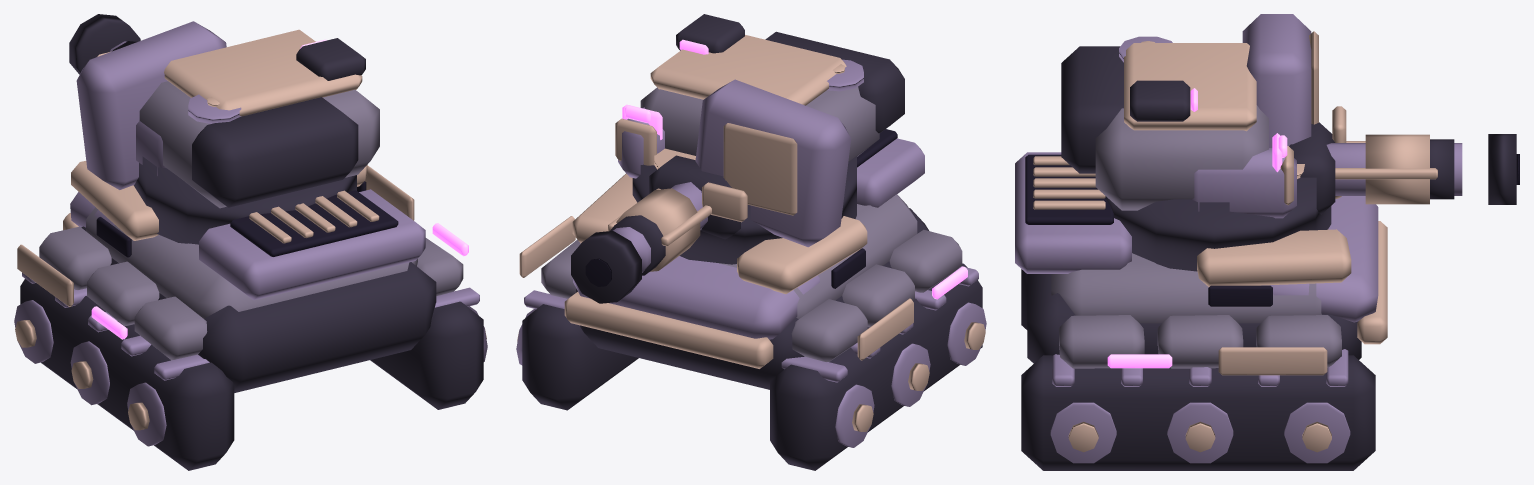
File: vesper-striker-tank.glb
3 renders of one model, left to right at view 1: azimuth 30°, elevation 25°; view 2: azimuth 150°, elevation 25°; view 3: azimuth 270°, elevation 25°, orthographic. The views are drawn at different scales.
Parts seen in each view (by area): view 1: Rotating turret assembly, Vesper track belt, Vesper segmented track armor, Vesper road wheel, Vesper hub cap, Vesper shoulder shadow port, Vesper track violet dash; view 2: Rotating turret assembly, Vesper track belt, Vesper road wheel, Vesper hub cap, Vesper segmented track armor, Vesper shoulder shadow port, Vesper track violet dash; view 3: Rotating turret assembly, Vesper track belt, Vesper road wheel, Vesper segmented track armor, Vesper hub cap, Vesper shoulder shadow port, Vesper track violet dash.
Boxes of the visible parts, bbox=[...] form: Rotating turret assembly: bbox=[69, 14, 379, 244]; Vesper track belt: bbox=[20, 226, 483, 470]; Vesper segmented track armor: bbox=[39, 207, 463, 360]; Vesper road wheel: bbox=[14, 189, 487, 446]; Vesper hub cap: bbox=[15, 161, 486, 430]; Vesper shoulder shadow port: bbox=[96, 181, 398, 257]; Vesper track violet dash: bbox=[91, 223, 468, 339]; Rotating turret assembly: bbox=[571, 14, 904, 303]; Vesper track belt: bbox=[522, 208, 982, 470]; Vesper road wheel: bbox=[516, 138, 986, 447]; Vesper hub cap: bbox=[517, 173, 985, 431]; Vesper segmented track armor: bbox=[541, 194, 962, 361]; Vesper shoulder shadow port: bbox=[831, 129, 897, 288]; Vesper track violet dash: bbox=[932, 266, 967, 299]; Rotating turret assembly: bbox=[1061, 14, 1519, 271]; Vesper track belt: bbox=[1021, 269, 1375, 470]; Vesper road wheel: bbox=[1015, 152, 1378, 463]; Vesper segmented track armor: bbox=[1051, 253, 1341, 368]; Vesper hub cap: bbox=[1033, 156, 1387, 452]; Vesper shoulder shadow port: bbox=[1025, 154, 1272, 306]; Vesper track violet dash: bbox=[1107, 354, 1172, 368].
Size of the model in its own units: 1.04 by 0.9376 by 1.25.
